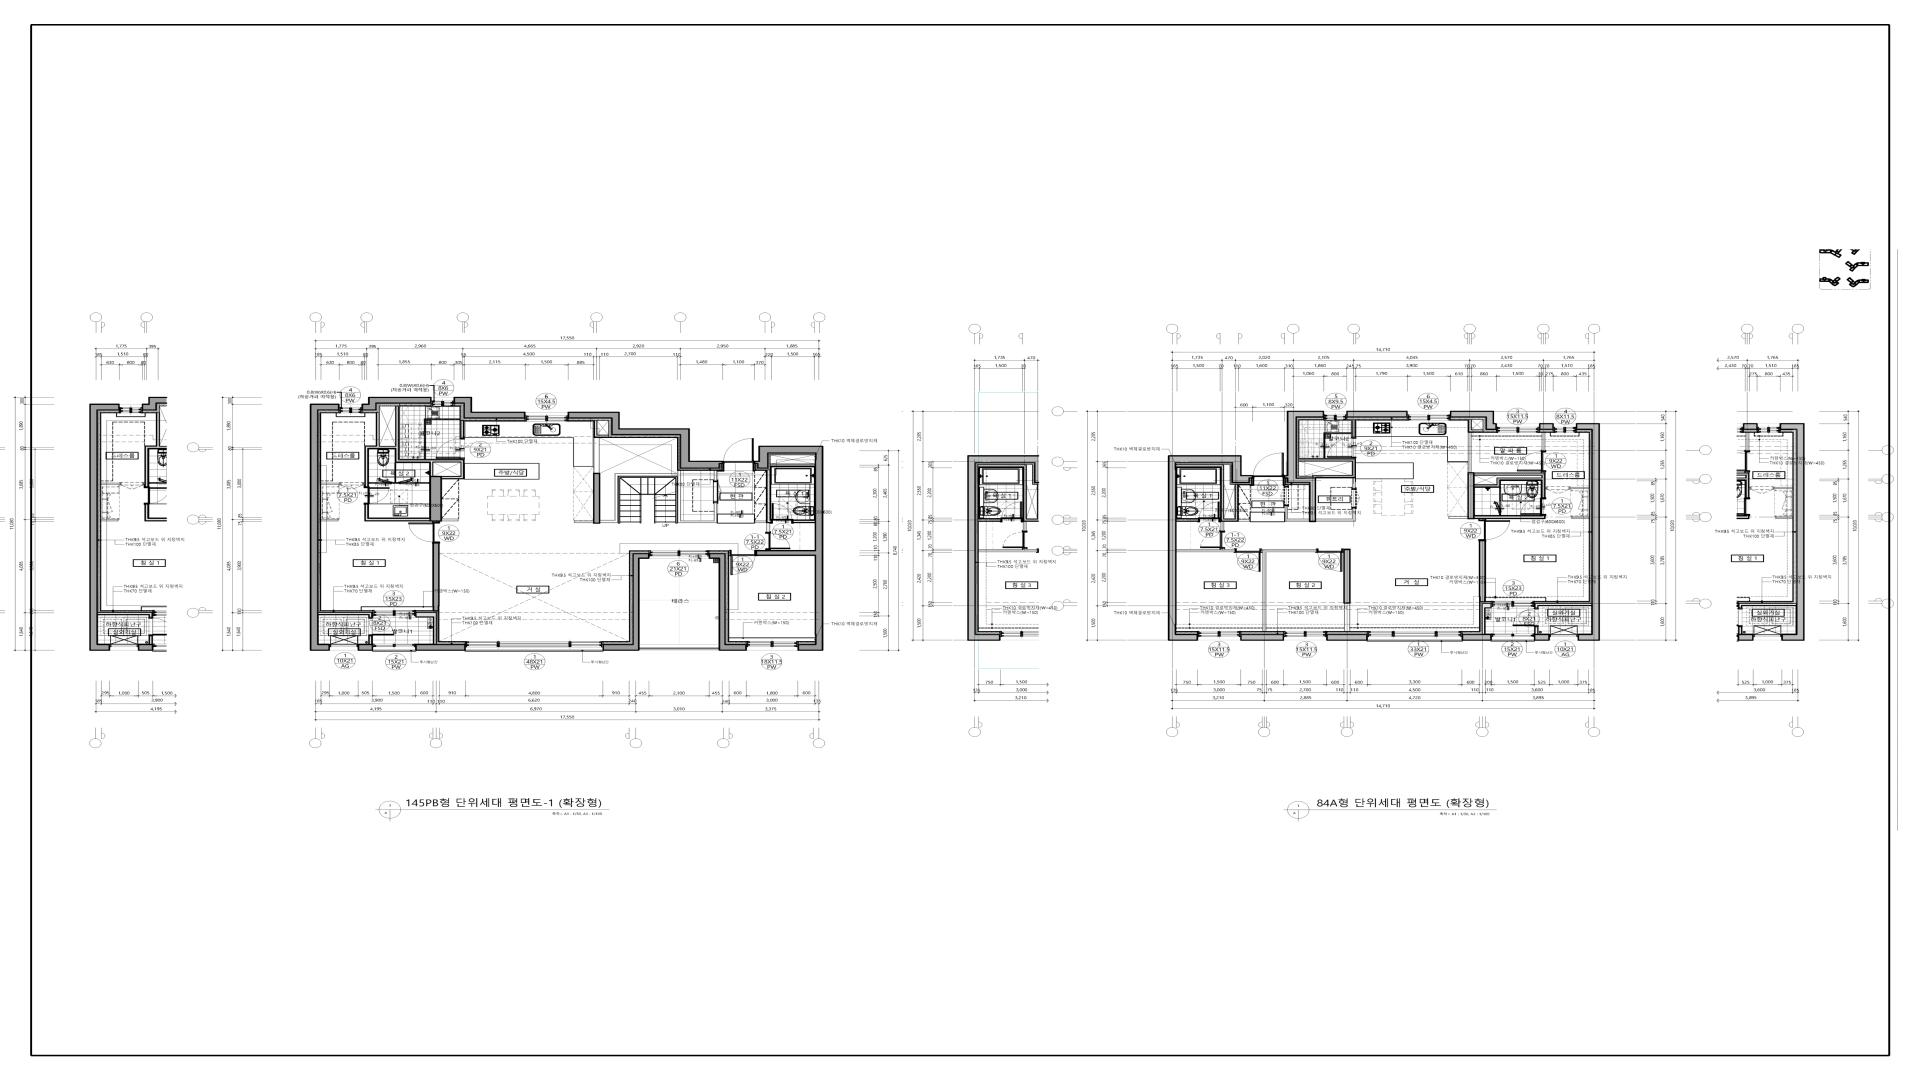door: (723, 438, 754, 472), (1253, 452, 1284, 487), (729, 550, 757, 575), (1478, 520, 1510, 541), (409, 522, 440, 543), (1316, 549, 1344, 572), (1327, 436, 1357, 458), (1516, 451, 1547, 472), (1236, 549, 1262, 572), (435, 439, 465, 459), (1520, 497, 1547, 516), (368, 617, 394, 636), (1197, 501, 1220, 522), (771, 502, 794, 524), (1200, 531, 1225, 550), (364, 487, 390, 504), (765, 533, 791, 550), (1352, 488, 1360, 508), (1545, 487, 1569, 493), (340, 483, 364, 489)
wall: (1168, 455, 1253, 641), (754, 446, 824, 651), (568, 411, 723, 468), (364, 406, 465, 487), (310, 404, 340, 651), (600, 471, 717, 524), (1576, 423, 1600, 641), (1176, 464, 1250, 531), (603, 554, 650, 651), (1262, 550, 1316, 632), (1284, 411, 1324, 522), (708, 554, 748, 651), (1474, 472, 1545, 497), (1299, 458, 1356, 488), (454, 397, 526, 418), (364, 504, 430, 521), (756, 469, 771, 533), (361, 397, 431, 410), (1451, 411, 1497, 430), (1468, 419, 1484, 472), (415, 612, 436, 644), (1316, 508, 1356, 522), (430, 476, 442, 522), (1478, 541, 1486, 601), (433, 543, 439, 611), (1346, 411, 1408, 418), (415, 644, 465, 651), (1284, 506, 1309, 522), (1344, 549, 1350, 604), (593, 473, 600, 524), (1468, 472, 1474, 520), (1535, 603, 1592, 608), (1482, 603, 1491, 634), (1241, 634, 1284, 641), (319, 612, 373, 617), (1474, 516, 1545, 520), (1327, 634, 1367, 641), (593, 438, 600, 473), (1461, 634, 1491, 641), (1344, 604, 1350, 632), (1176, 550, 1236, 553), (357, 644, 373, 651), (770, 464, 815, 467), (1534, 634, 1549, 641), (1539, 423, 1553, 430), (1176, 518, 1199, 522), (794, 520, 815, 524), (460, 421, 464, 439), (1542, 433, 1545, 451), (1352, 419, 1356, 436), (1569, 487, 1589, 489), (322, 483, 340, 485), (575, 521, 593, 524), (442, 518, 459, 521), (368, 636, 373, 644), (1535, 626, 1539, 634), (715, 471, 717, 481), (320, 520, 339, 521), (1449, 517, 1468, 518), (1572, 517, 1589, 518)
window: (465, 641, 603, 651), (1367, 630, 1461, 642), (748, 641, 798, 650), (650, 550, 708, 558), (1408, 411, 1451, 421), (1497, 423, 1539, 433), (1199, 630, 1241, 640), (1284, 630, 1327, 640), (526, 413, 568, 422), (1491, 633, 1534, 642), (373, 644, 415, 651), (1491, 601, 1535, 607), (373, 611, 415, 616), (1324, 411, 1346, 421), (1553, 423, 1576, 433), (431, 397, 454, 406), (340, 405, 361, 414), (330, 644, 357, 650), (1549, 634, 1577, 640)
